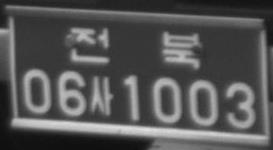0: (152, 75, 183, 124), (188, 78, 219, 127), (22, 67, 52, 115)
1: (120, 73, 145, 122)
3: (225, 80, 256, 130)
6: (57, 69, 86, 116)
사: (89, 75, 113, 117)
전북_D: (69, 25, 202, 71)
